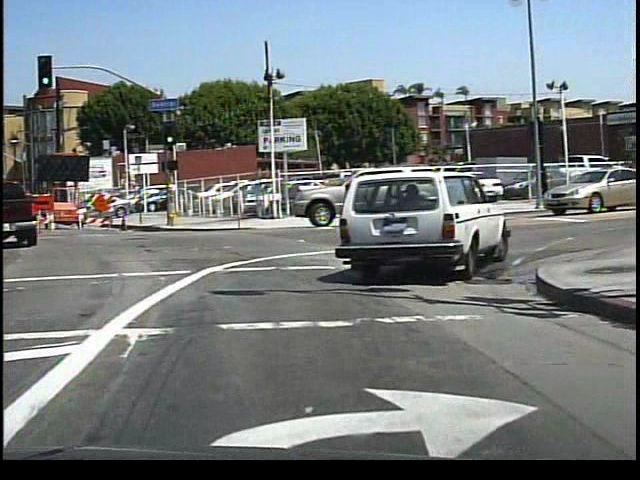person: (533, 163, 552, 206)
